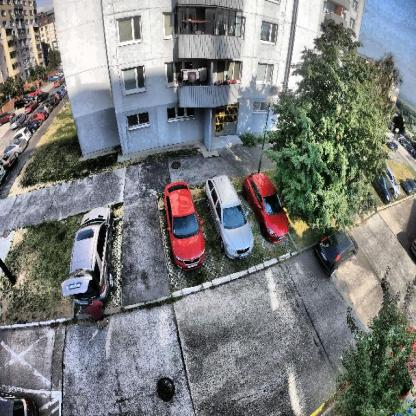free: (124, 204, 161, 294)
occupied: (69, 204, 118, 308), (159, 180, 208, 276), (212, 174, 251, 271), (248, 168, 290, 242)
